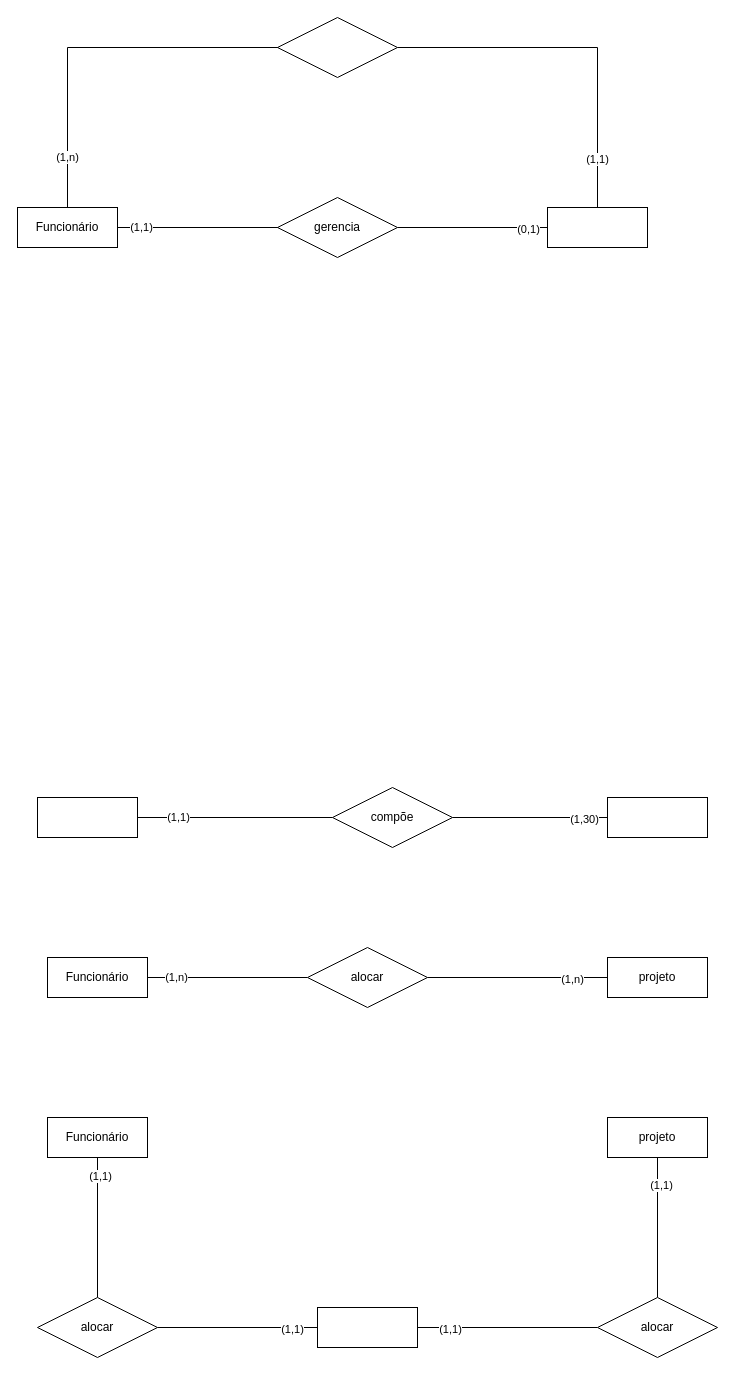
The diagram is 735 pixels wide and 1375 high, and some of its shapes have lost their labels. The shapes that lost their labels are listed below. From the top down, each one's centre as x and y in pixels, then its label:
At point 337,47: "alocado".
At point 597,227: "Departamento".
At point 87,817: "Pedido".
At point 657,817: "Item".
At point 367,1327: "data".
